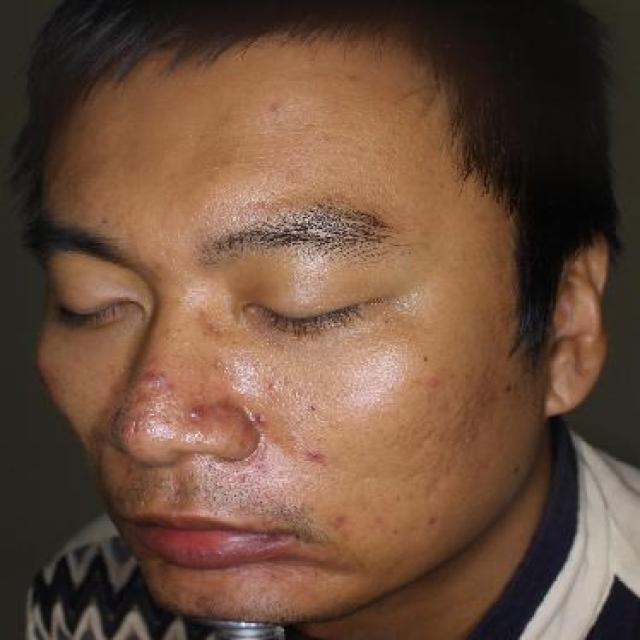papules: (139, 365, 178, 389), (298, 442, 334, 466), (247, 402, 276, 426)
pustules: (180, 403, 214, 426)
